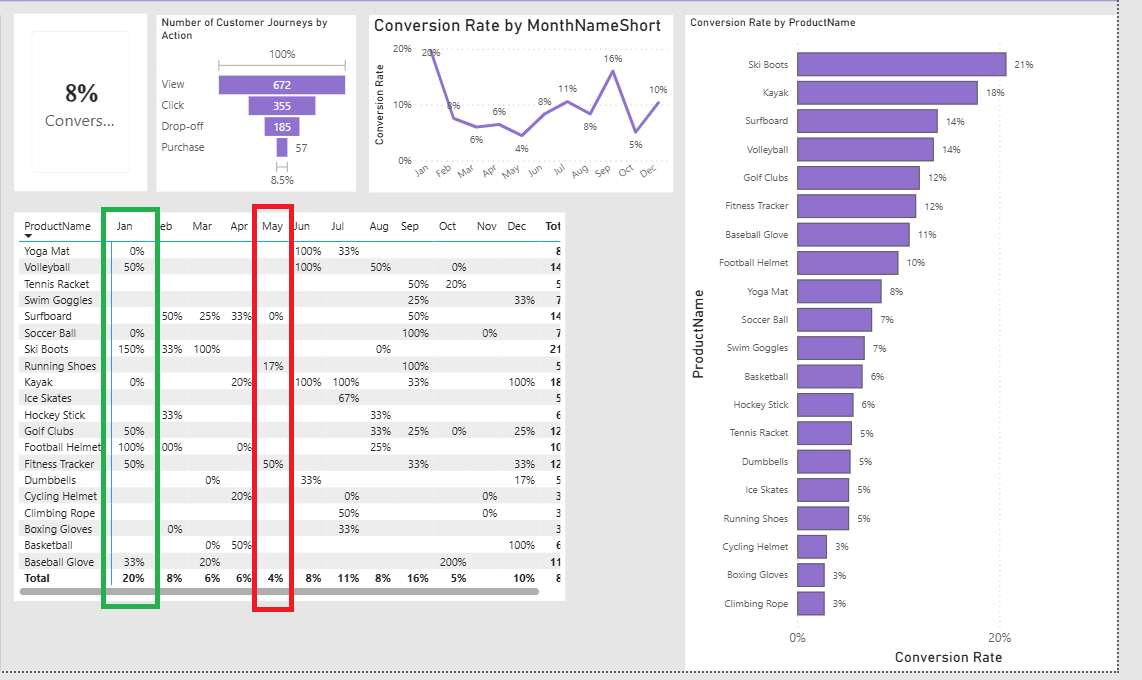

Layout of this report page (visuals, bound fields, positions):
{"tool":"powerbi","page":{"name":"Conversion Details","canvas":[1280,720],"ordinal":1},"visuals":[{"type":"slicer","fields":{"Values":["Calendar.Year"]},"box":[211.3,0,410.3,64.5],"z":0},{"type":"textbox","box":[3.7,2.4,207.9,62.4],"z":1000},{"type":"slicer","fields":{"Values":["dim_products.ProductName"]},"box":[0,77.9,187,642.9],"z":2000},{"type":"cardVisual","fields":{"Data":["_Calculations.Conversion Rate"]},"box":[200,77.5,130,173.8],"z":3000},{"type":"slicer","fields":{"Values":["Calendar.MonthNameShort"]},"box":[621.6,0,658.7,64.5],"z":4000},{"type":"lineChart","fields":{"Y":["_Calculations.Conversion Rate"],"Category":["Calendar.MonthNameShort"]},"box":[547.2,77.8,297.2,173.6],"z":5000},{"type":"clusteredBarChart","fields":{"Category":["dim_products.ProductName"],"Y":["_Calculations.Conversion Rate"]},"box":[857.1,77.9,423.4,641.6],"z":6000},{"type":"pivotTable","fields":{"Values":["_Calculations.Conversion Rate"],"Rows":["dim_products.ProductName"],"Columns":["Calendar.MonthNameShort"]},"box":[200.5,271.5,556.4,370.5],"z":7000},{"type":"funnel","fields":{"Category":["fact_customer_journey.Action"],"Y":["_Calculations.Number of Customer Journeys"]},"box":[340.3,77.9,194.8,172.7],"z":8000}]}

Visuals, with their boxes on the page's 1280x720 design canvas (x1, y1, x2, y2). These are canvas units, not pixel positions in the 1142x680 screenshot, which may show the page scaled, cropped or inside an application window:
slicer - Calendar.Year: (x1=211, y1=0, x2=622, y2=64)
textbox: (x1=4, y1=2, x2=212, y2=65)
slicer - dim_products.ProductName: (x1=0, y1=78, x2=187, y2=721)
cardVisual - _Calculations.Conversion Rate: (x1=200, y1=78, x2=330, y2=251)
slicer - Calendar.MonthNameShort: (x1=622, y1=0, x2=1280, y2=64)
lineChart - _Calculations.Conversion Rate x Calendar.MonthNameShort: (x1=547, y1=78, x2=844, y2=251)
clusteredBarChart - dim_products.ProductName x _Calculations.Conversion Rate: (x1=857, y1=78, x2=1280, y2=720)
pivotTable - _Calculations.Conversion Rate x dim_products.ProductName: (x1=200, y1=272, x2=757, y2=642)
funnel - fact_customer_journey.Action x _Calculations.Number of Customer Journeys: (x1=340, y1=78, x2=535, y2=251)
